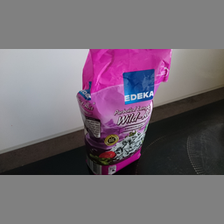rice: (76, 48, 173, 174)
